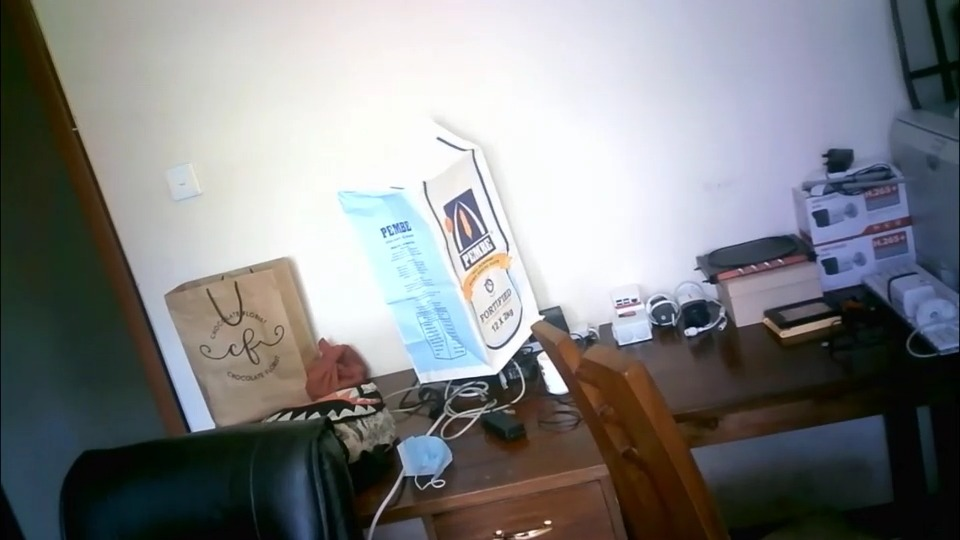wheat_flour_blue_label: (336, 131, 542, 377)
